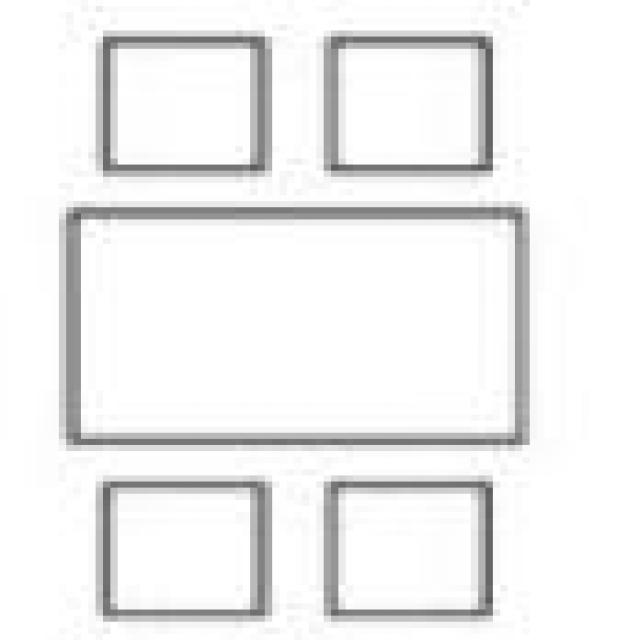table: (66, 24, 508, 616)
